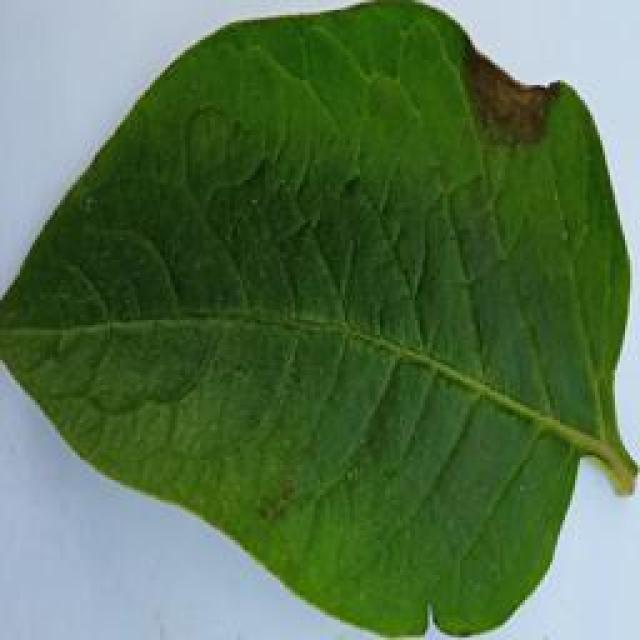Potato_Late_Blight: (10, 24, 640, 640)
